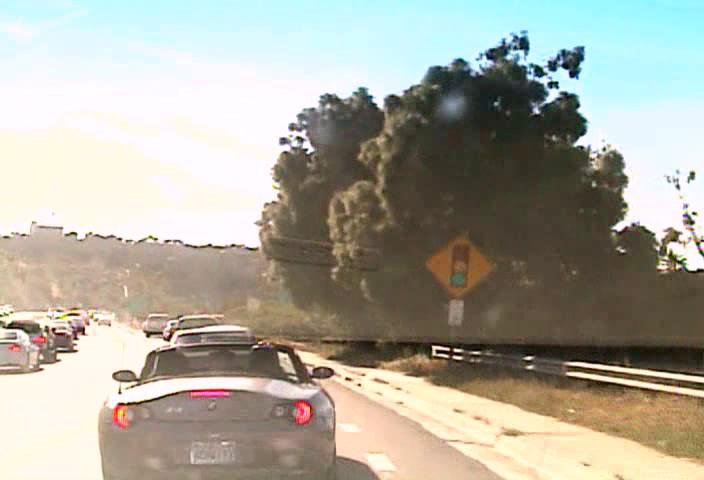signalAhead: (424, 231, 492, 298)
